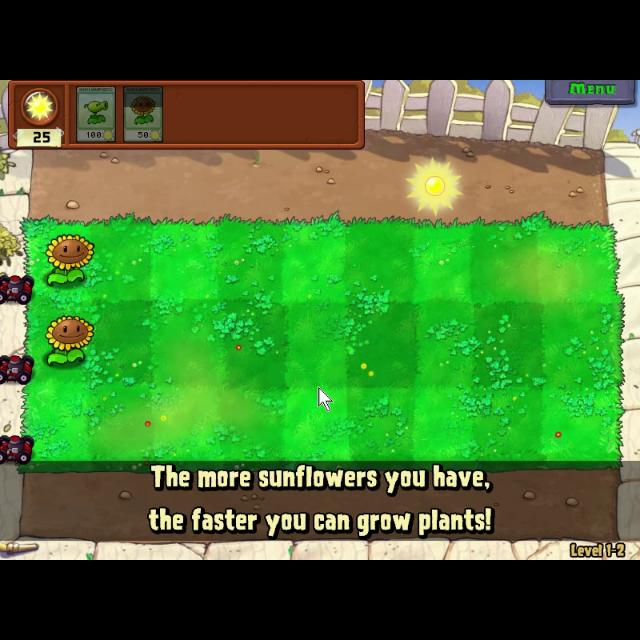Garden: (16, 213, 626, 473)
Menu Button: (540, 80, 636, 106)
Mower: (1, 268, 36, 308), (0, 429, 36, 466), (1, 351, 36, 387)
Peashooter: (74, 85, 118, 143)
Seed Panel: (5, 80, 367, 152)
Sun: (400, 158, 470, 216)
Sunflower: (123, 85, 163, 143)
Sunflower Seed: (41, 230, 98, 288), (42, 312, 96, 372)
